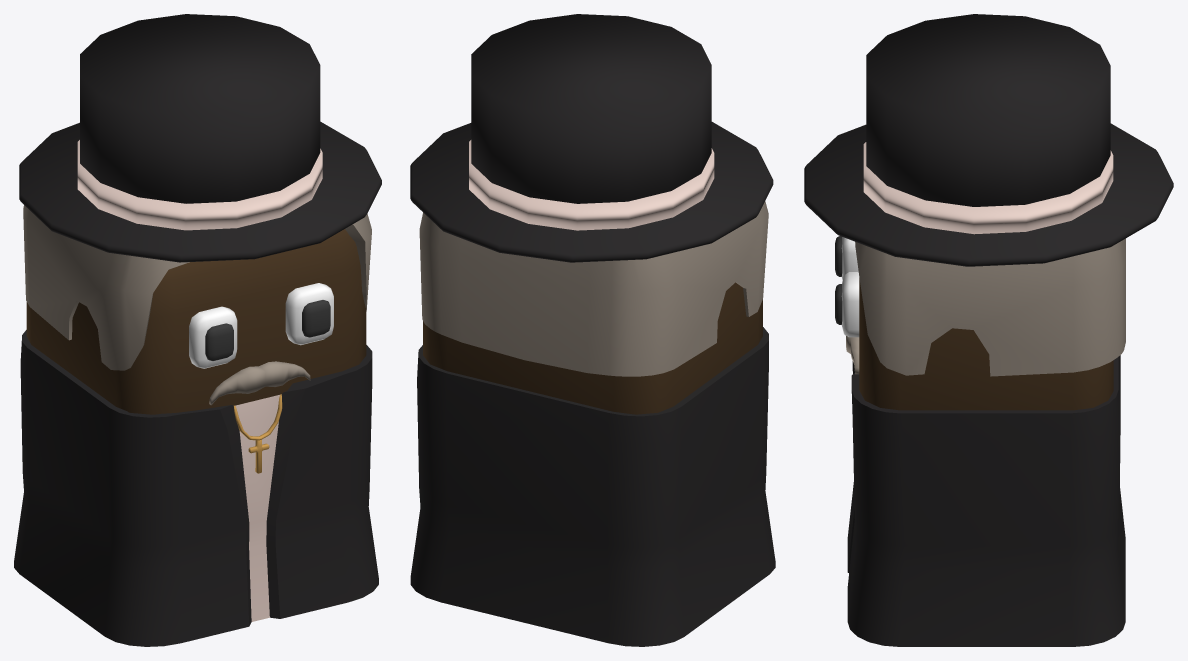
Rendered from MafiaBossPriest.fbx.
The picture shows the model from 3 angles, left to right: view 1: azimuth 30°, elevation 25°; view 2: azimuth 150°, elevation 25°; view 3: azimuth 270°, elevation 25°; orthographic projection.
Visible parts, largest first — view 1: Cube.001, Cylinder.002, Cube.011, Cylinder.001, Cube, Cylinder.003, Cube.002, Cube.009, Cube.008; view 2: Cube.001, Cylinder.002, Cube, Cylinder.001, Cube.011, Cylinder.003; view 3: Cube.001, Cylinder.002, Cube, Cylinder.001, Cube.011, Cylinder.003, Cube.002, Cube.008.
Part boxes in pixels (x1,y1,x2,y2): Cube.001: [14, 330, 378, 646]; Cylinder.002: [80, 14, 320, 203]; Cube.011: [26, 229, 366, 414]; Cylinder.001: [19, 121, 381, 262]; Cube: [23, 205, 371, 370]; Cylinder.003: [77, 140, 322, 230]; Cube.002: [189, 283, 333, 368]; Cube.009: [209, 361, 310, 405]; Cube.008: [205, 300, 330, 360]; Cube.001: [410, 327, 775, 646]; Cylinder.002: [471, 14, 711, 203]; Cube: [419, 201, 768, 376]; Cylinder.001: [410, 122, 773, 262]; Cube.011: [423, 282, 762, 414]; Cylinder.003: [469, 140, 714, 230]; Cube.001: [847, 355, 1125, 646]; Cylinder.002: [866, 14, 1110, 206]; Cube: [855, 238, 1125, 376]; Cylinder.001: [804, 123, 1173, 266]; Cube.011: [859, 278, 1113, 410]; Cylinder.003: [863, 142, 1113, 234]; Cube.002: [841, 237, 859, 337]; Cube.008: [835, 236, 842, 324].
Bounding box in the file's own units: 219 × 336 × 218.
